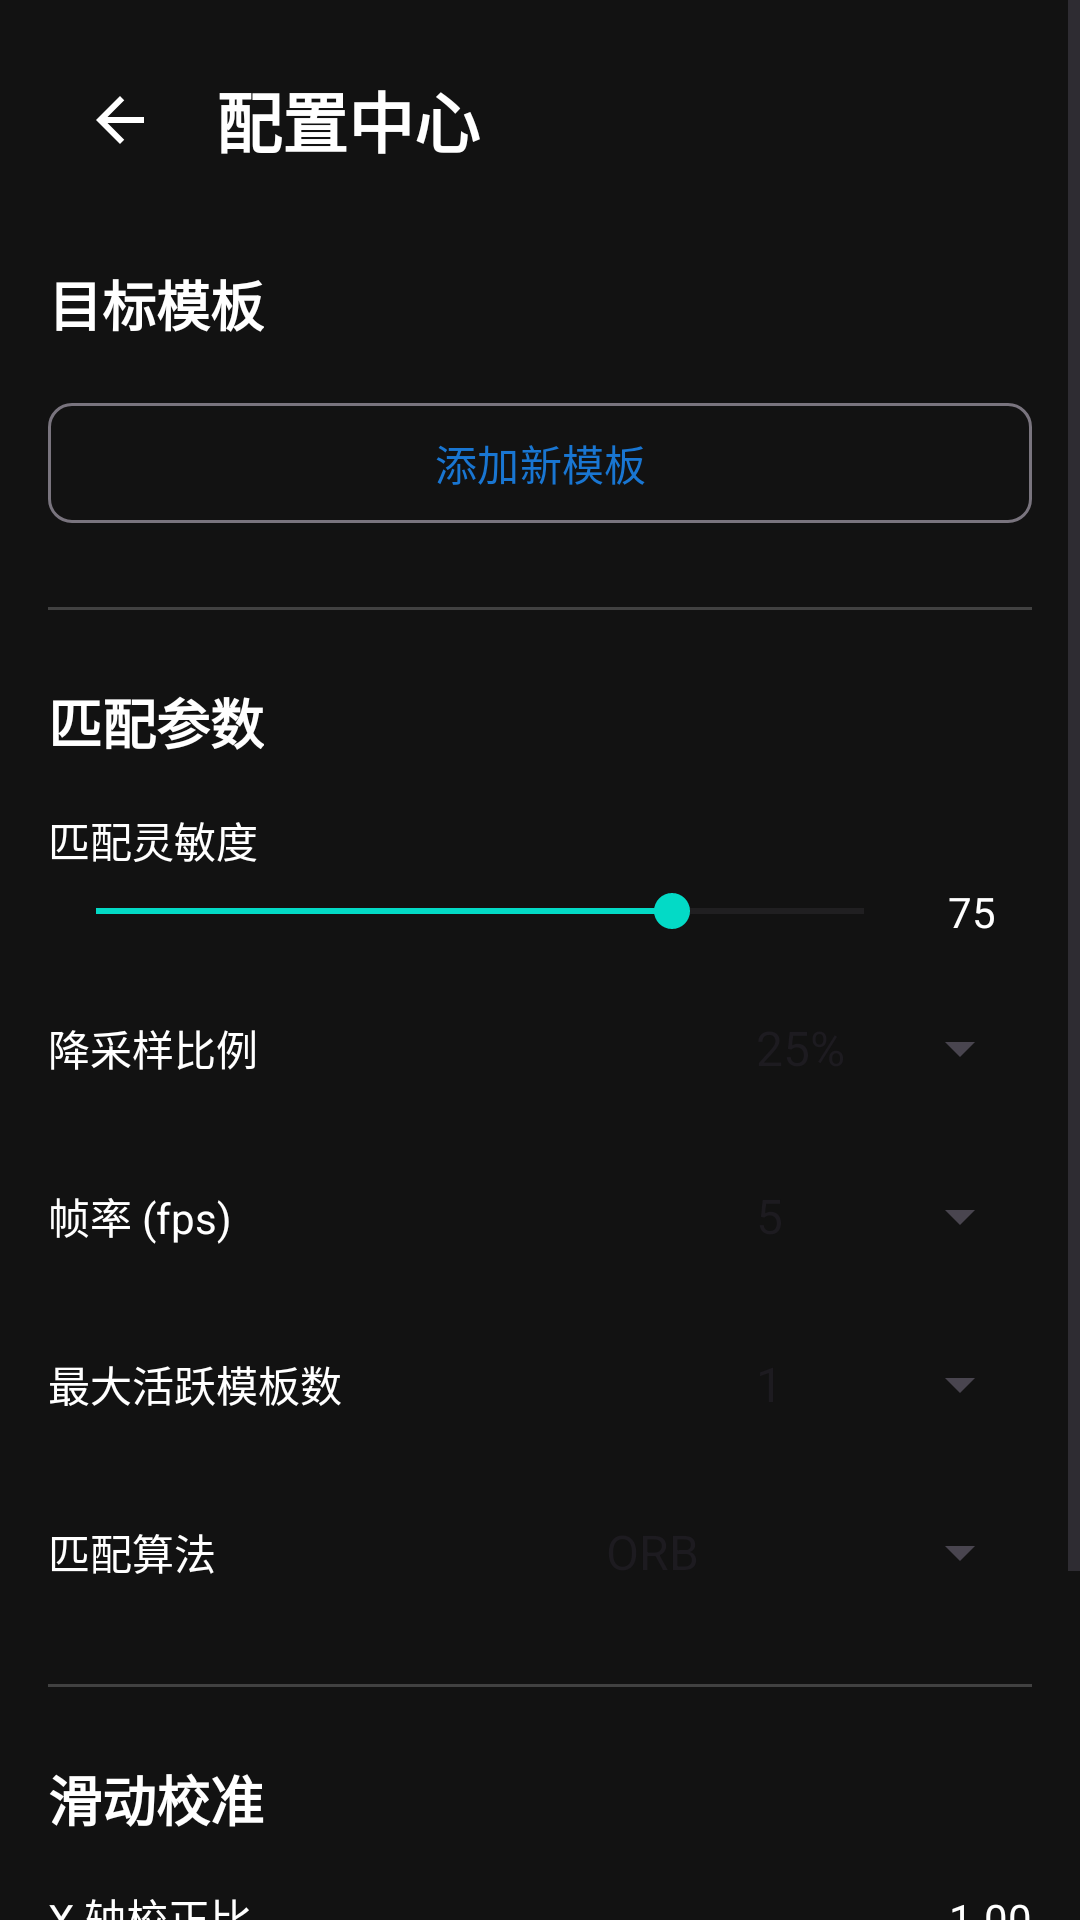

Point at icon controls on the screen. Image size 1080×1920, points as [x,y].
返回: [120,120]
